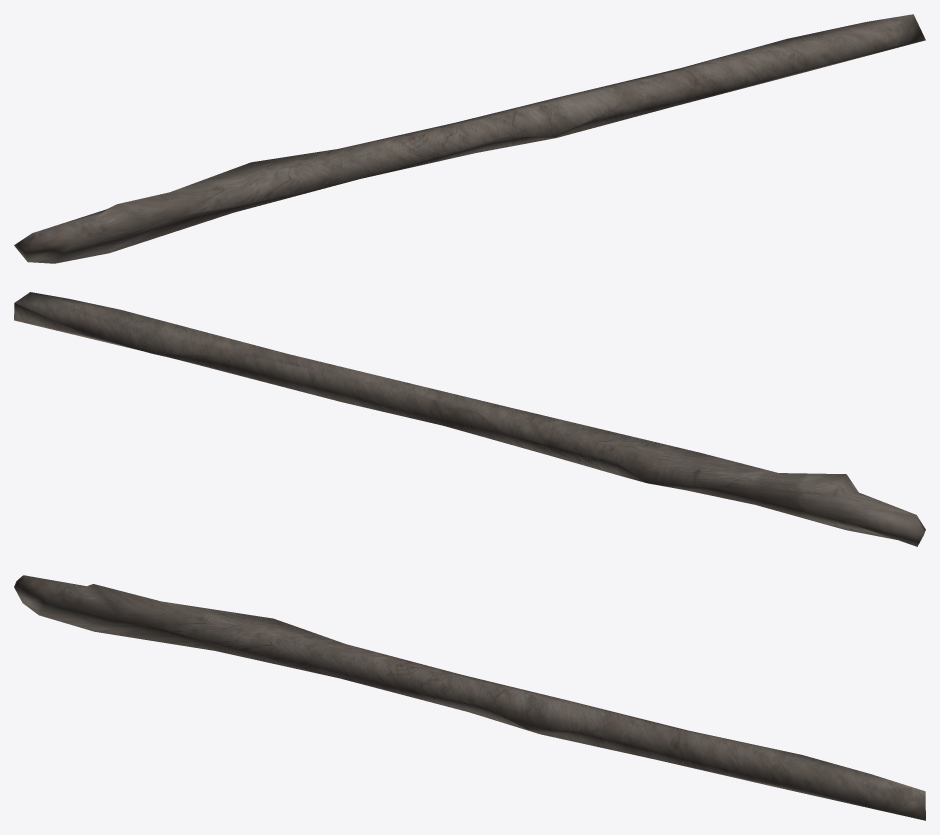
File: palka_14.glb
The picture shows the model from 3 angles, top to bottom: view 1: azimuth 30°, elevation 25°; view 2: azimuth 150°, elevation 25°; view 3: azimuth 330°, elevation 25°; orthographic projection.
Visible parts, largest first — view 1: palka_00; view 2: palka_00; view 3: palka_00.
Boxes of the visible parts, left/top/right/bottom form: palka_00: left=14, top=14, right=925, bottom=263; palka_00: left=14, top=292, right=925, bottom=546; palka_00: left=14, top=575, right=925, bottom=820.
Size of the model in its own units: 84.64 by 4.59 by 4.62.
Materials: 1 (1 with a texture image).
